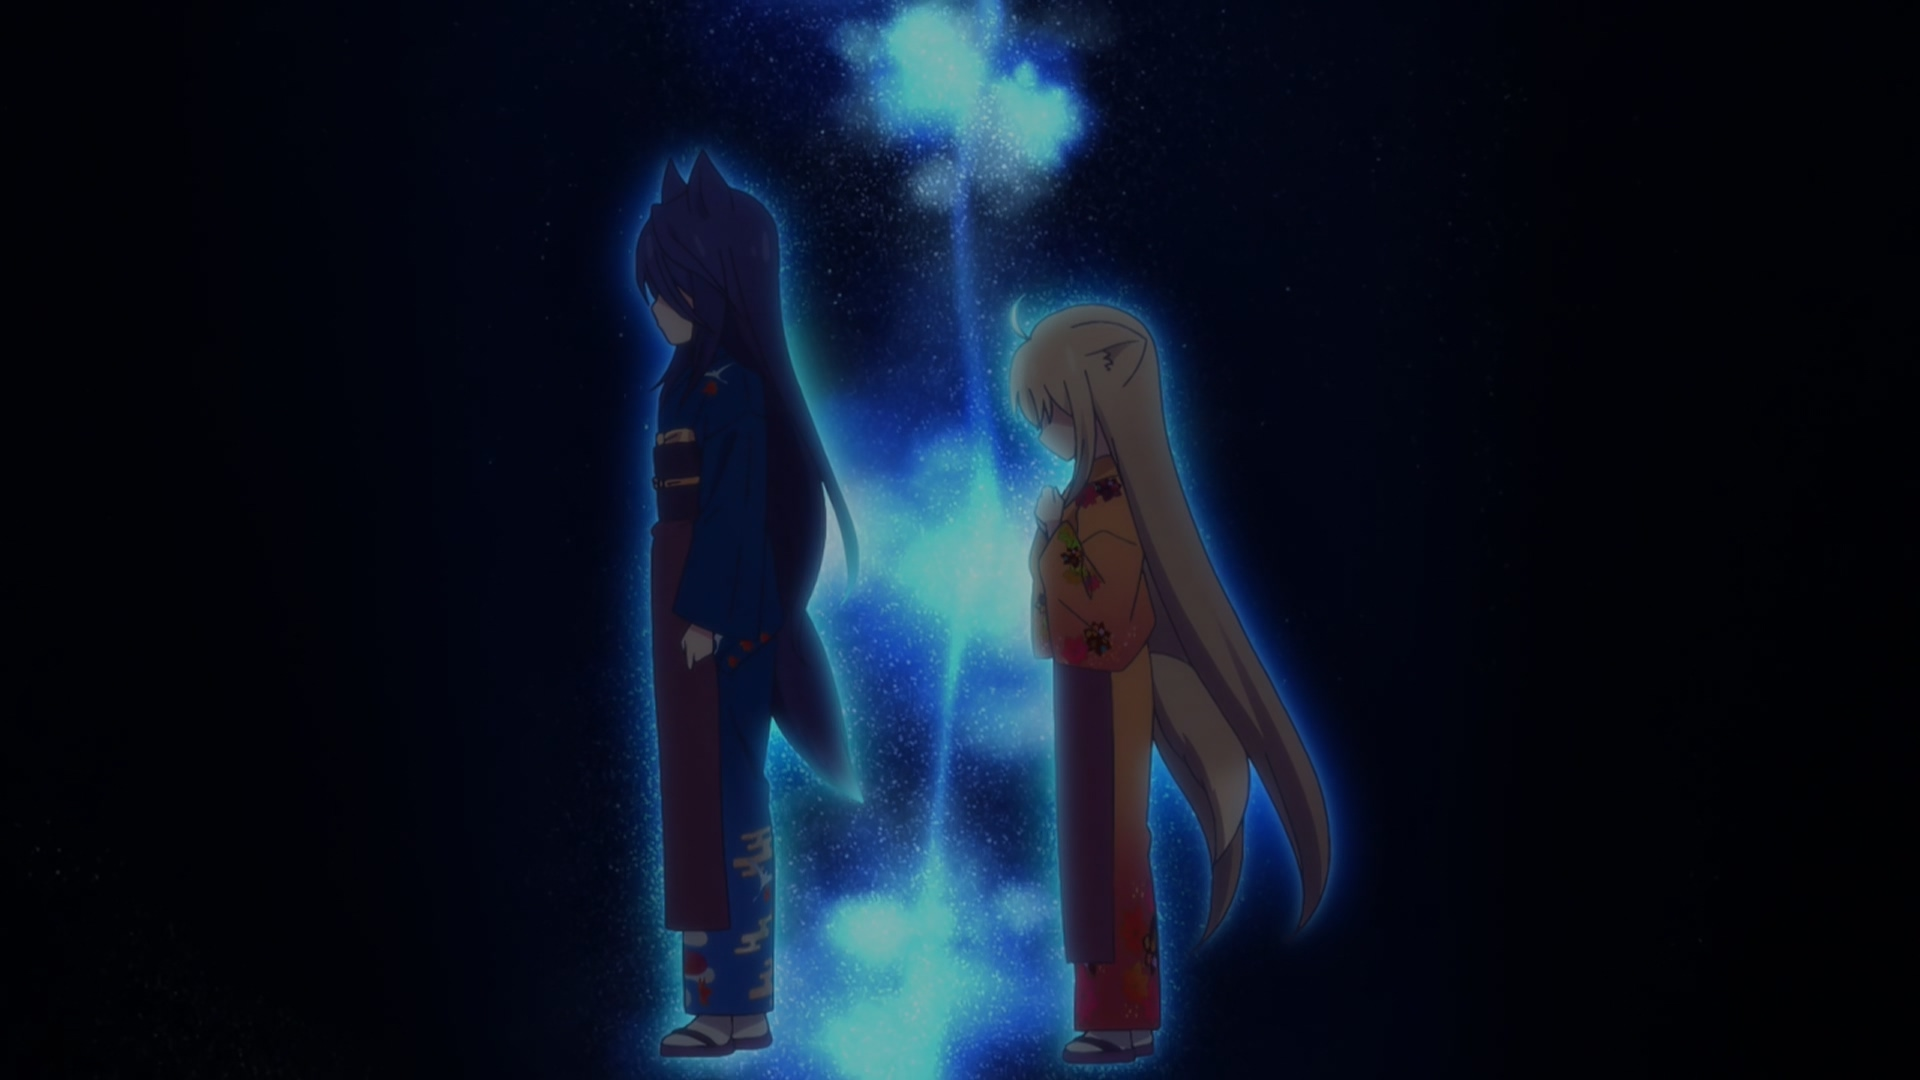柚: (1007, 291, 1333, 1064)
皋: (633, 154, 864, 1058)
